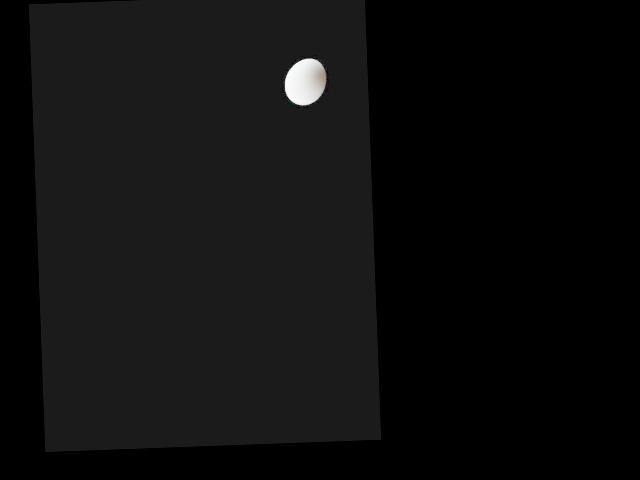egg: (283, 57, 326, 105)
